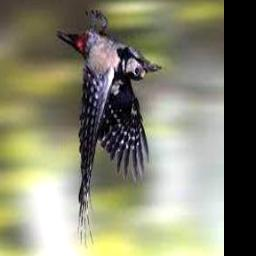Woodpecker: (56, 12, 162, 250)
